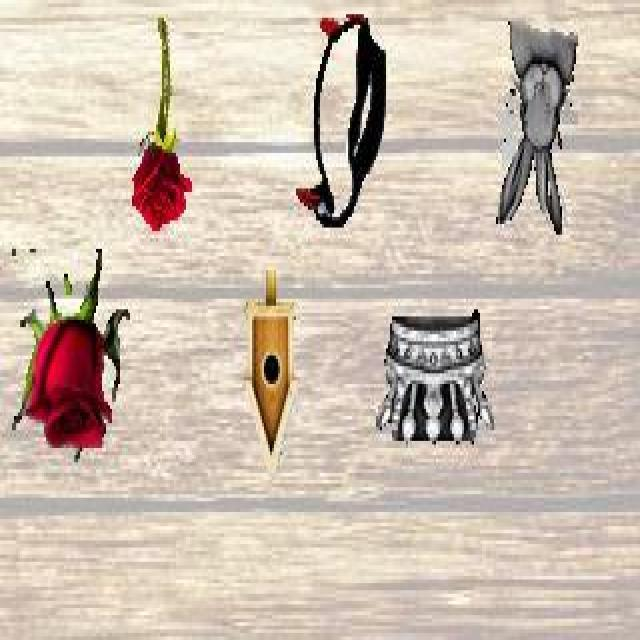Other Objects: (13, 248, 130, 462), (376, 309, 494, 445), (132, 18, 192, 232)
